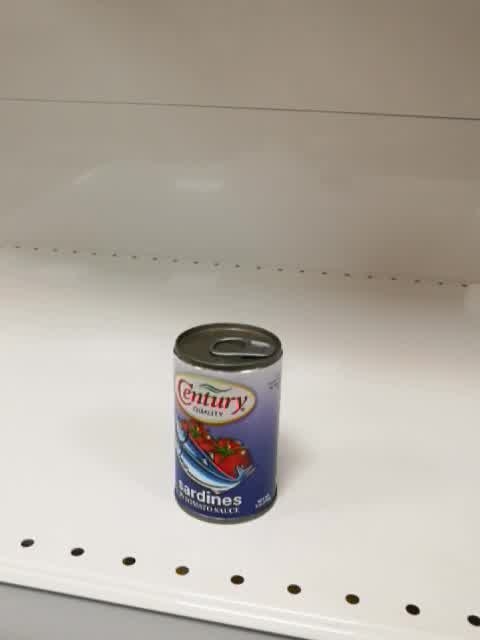sardine: (171, 319, 284, 526)
